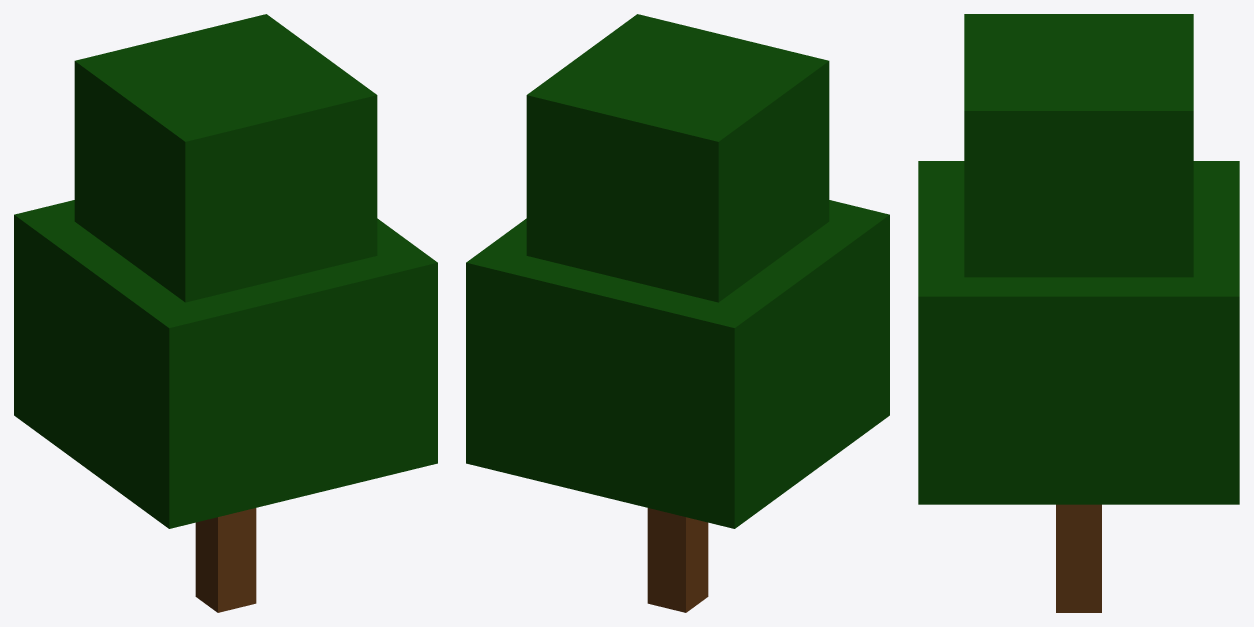
The model's file is Pine Tree(1) (Stage4).obj.
The picture shows the model from 3 angles, left to right: view 1: azimuth 30°, elevation 25°; view 2: azimuth 150°, elevation 25°; view 3: azimuth 270°, elevation 25°; orthographic projection. The views are drawn at different scales.
Bounding box in the file's own units: 0.7 × 1.3 × 0.7.
1 material, 1 textured.
